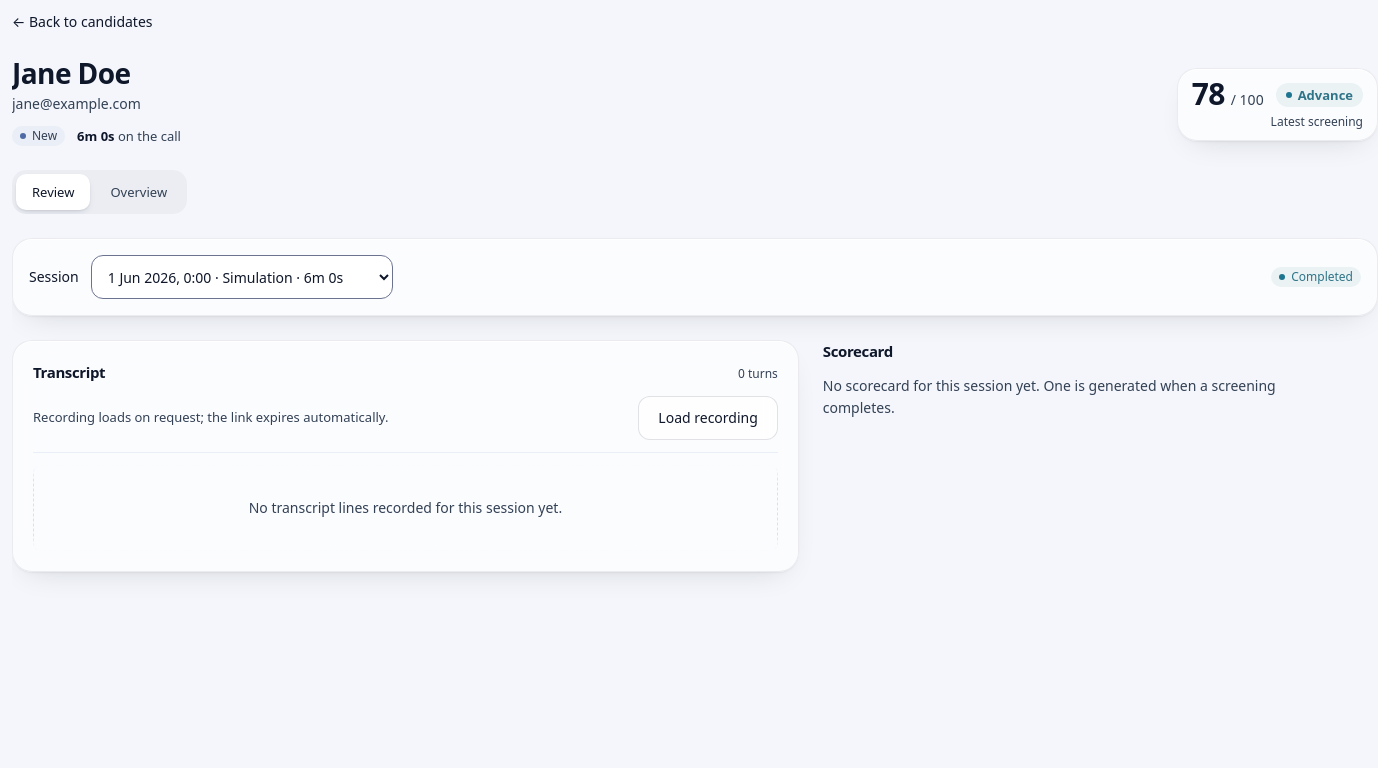
CandidateDetailPage tabs › shows an inline transcript error with retry
Check: the heading "Jane Doe" is shown, box [12,54,130,92]
Step 1. Click the tab "Review" → (53, 192), box [16,174,90,210]
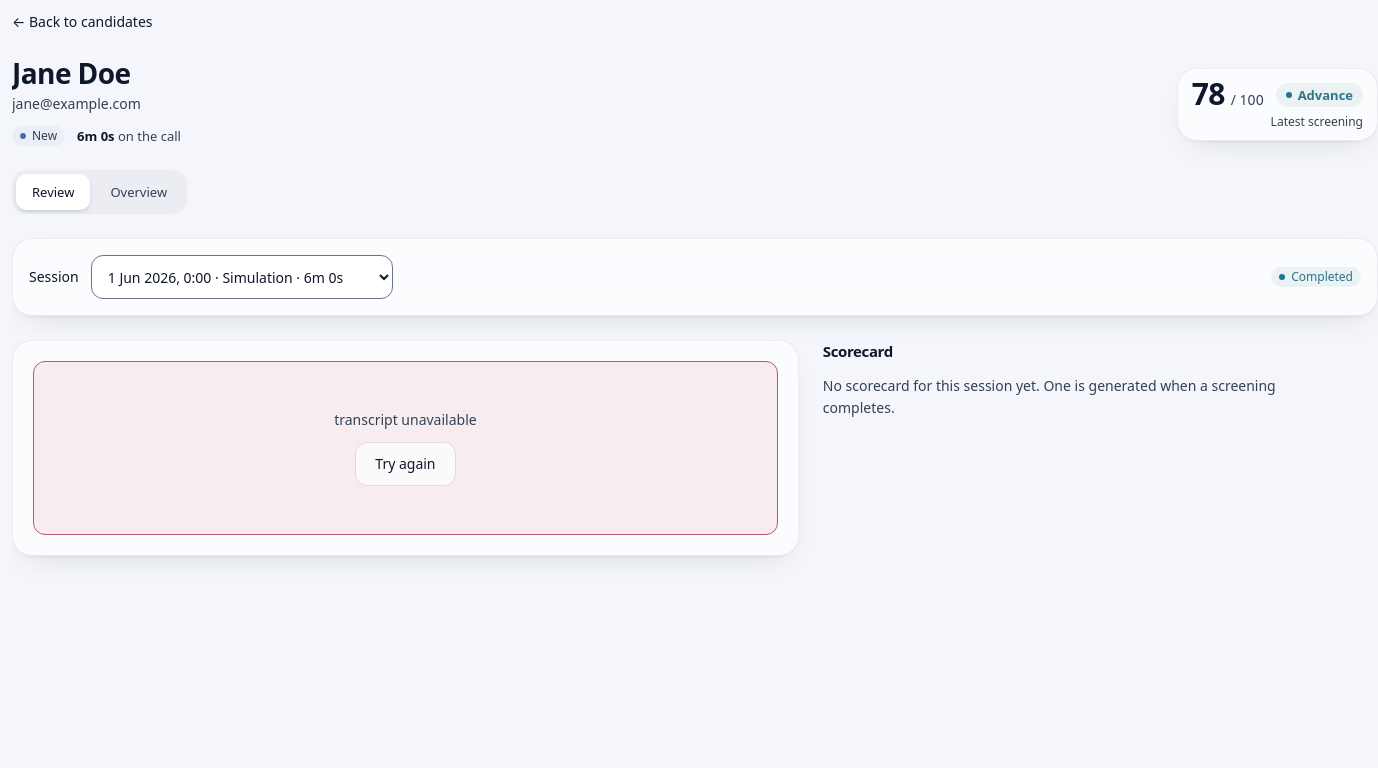
Check: the text "transcript unavailable" is shown, box [334,410,477,429]
Check: the button "Try again" is shown, box [355,442,456,486]
